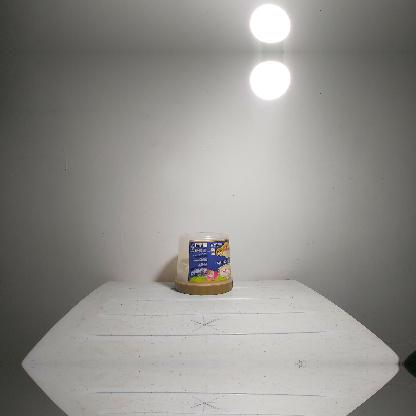Lady-s-Choice: (172, 229, 234, 295)
